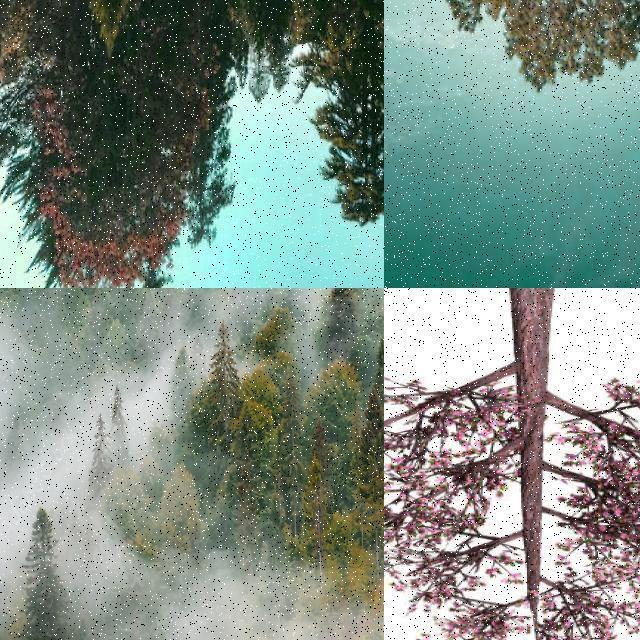tree: (384, 288, 640, 640), (23, 0, 229, 288), (420, 0, 640, 174), (188, 312, 288, 576), (308, 0, 384, 230), (57, 0, 153, 144), (305, 348, 363, 560), (160, 0, 266, 100), (14, 499, 73, 640), (238, 0, 310, 104), (352, 348, 383, 578), (159, 462, 209, 566), (314, 0, 364, 90), (318, 288, 362, 360), (97, 315, 135, 381), (108, 384, 132, 472), (88, 414, 116, 486), (60, 288, 100, 332), (170, 348, 194, 420), (125, 288, 159, 334), (233, 288, 271, 324), (0, 563, 16, 640), (199, 288, 229, 320)
